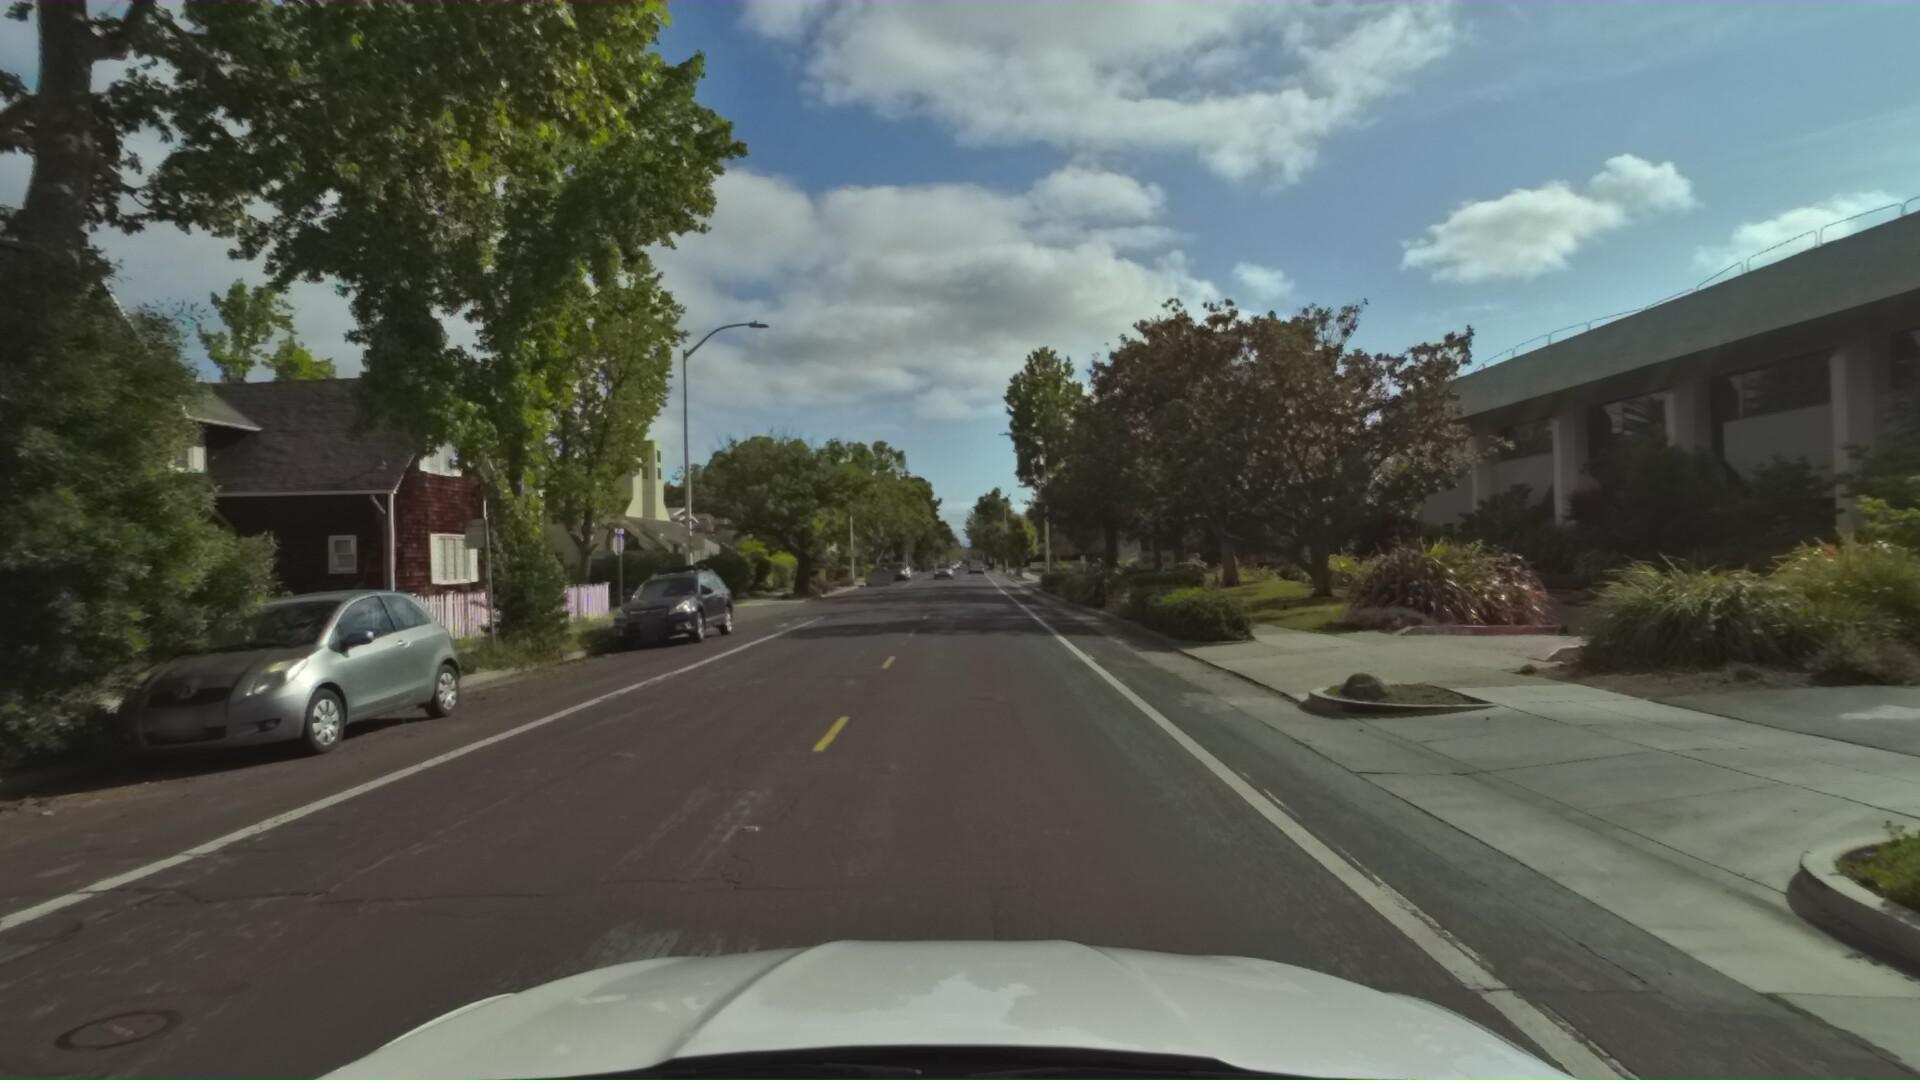car: (8, 576, 469, 800), (593, 559, 738, 653), (862, 562, 891, 585)
